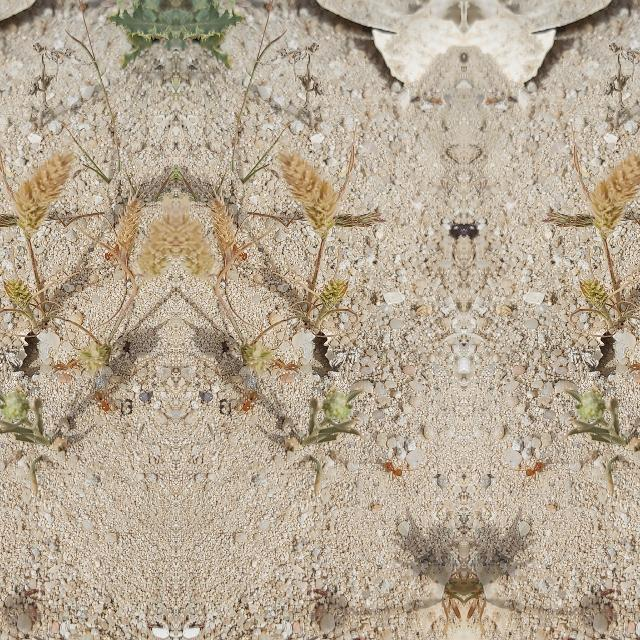Cataglyphis: (272, 349, 304, 378), (46, 349, 78, 378), (522, 454, 544, 484), (382, 454, 403, 484), (238, 386, 258, 416), (92, 386, 111, 416), (622, 348, 640, 378)
